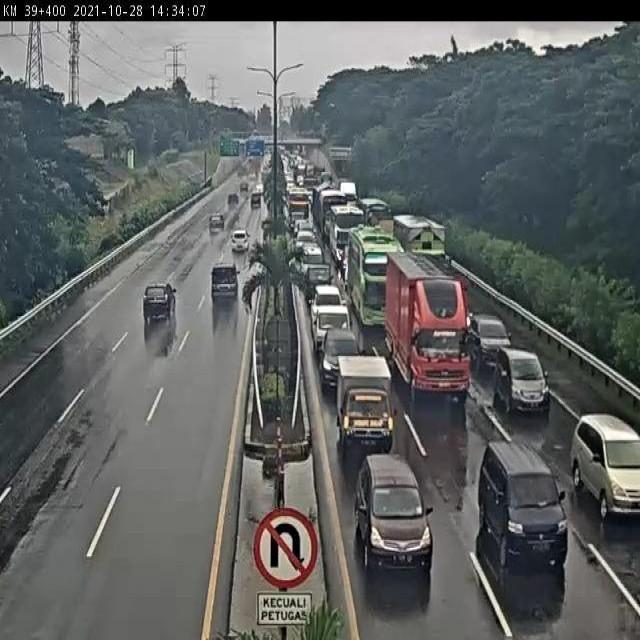big bus: (348, 228, 401, 329), (322, 202, 362, 258), (286, 186, 308, 226)
big truck: (388, 248, 467, 395), (392, 212, 456, 284), (318, 190, 347, 238), (362, 198, 391, 225)
car: (481, 439, 567, 564), (354, 454, 437, 570), (563, 413, 640, 511), (335, 352, 395, 448), (494, 348, 550, 415), (320, 331, 361, 386), (313, 303, 352, 357), (466, 312, 508, 359), (140, 280, 179, 321), (298, 258, 330, 298), (210, 262, 241, 298), (307, 283, 346, 308), (448, 299, 471, 340), (227, 227, 253, 254), (296, 238, 320, 266), (204, 215, 226, 241), (294, 222, 312, 242), (226, 191, 241, 209)
